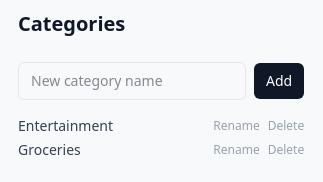
Test: CategoriesPage › cancels rename and restores the list item when ✕ is clicked
Expected: the text "Entertainment" is shown, 18,116 -> 113,135
Step 1. Click the button with aria-label "rename entertainment" → click(236, 126), box 213,118 -> 260,134
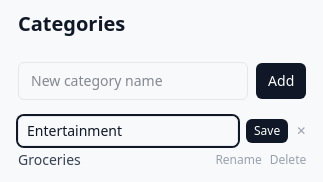
Expected: the field named "rename category" is shown, 18,116 -> 238,146
Step 2. Click the button "✕" → click(301, 131), box 296,123 -> 306,139
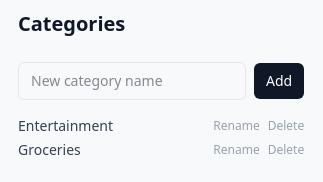
Expected: the text "Entertainment" is shown, 18,116 -> 113,135
